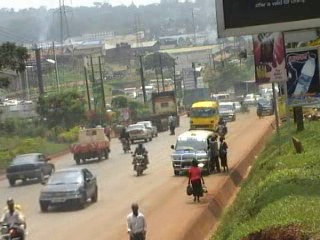Car: (37, 164, 101, 210), (6, 149, 58, 186), (124, 120, 153, 142), (136, 118, 160, 138), (229, 99, 240, 113), (252, 93, 260, 104)
Motorcycle: (0, 197, 33, 239), (131, 143, 150, 178), (116, 127, 134, 152)
